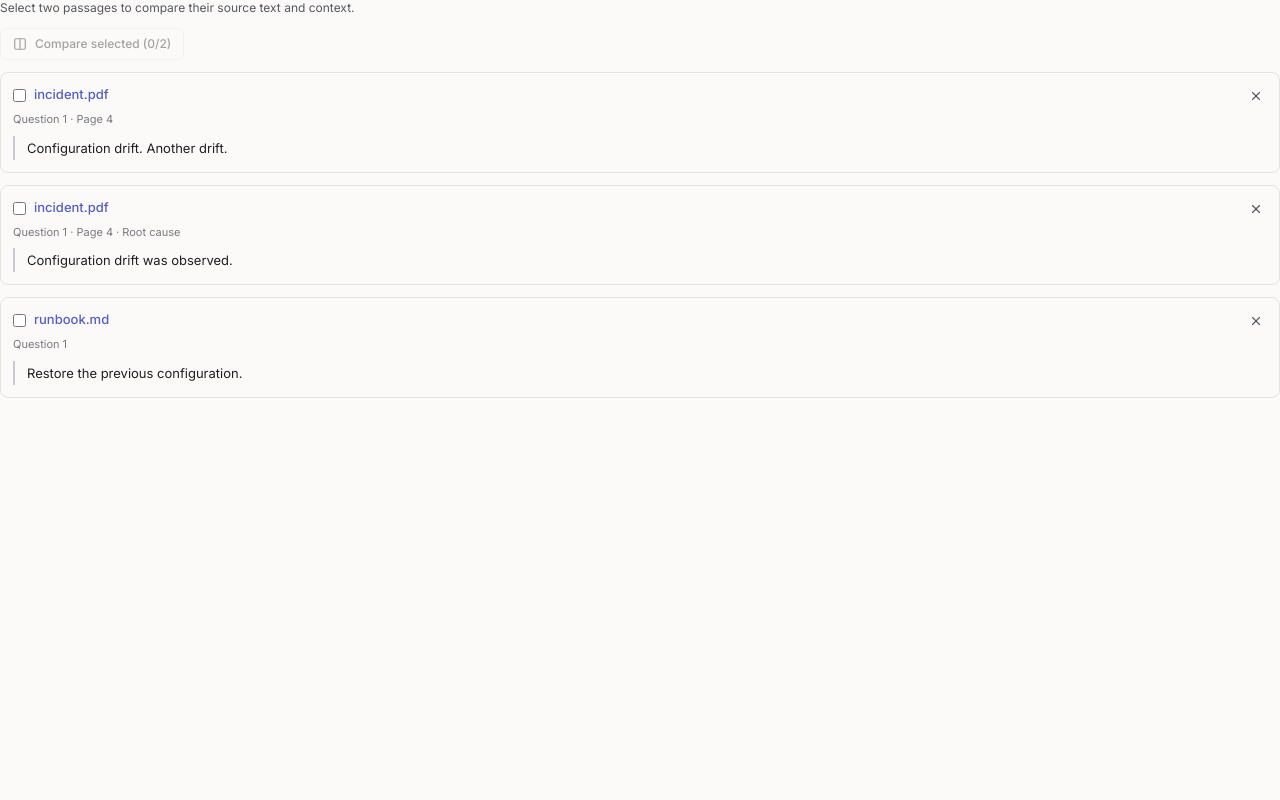
Test case: Research evidence workbench › compares exactly two captured passages with their actual versions and locations
Click the checkbox named "Compare evidence 2": point(20, 208) [13,202,26,214]
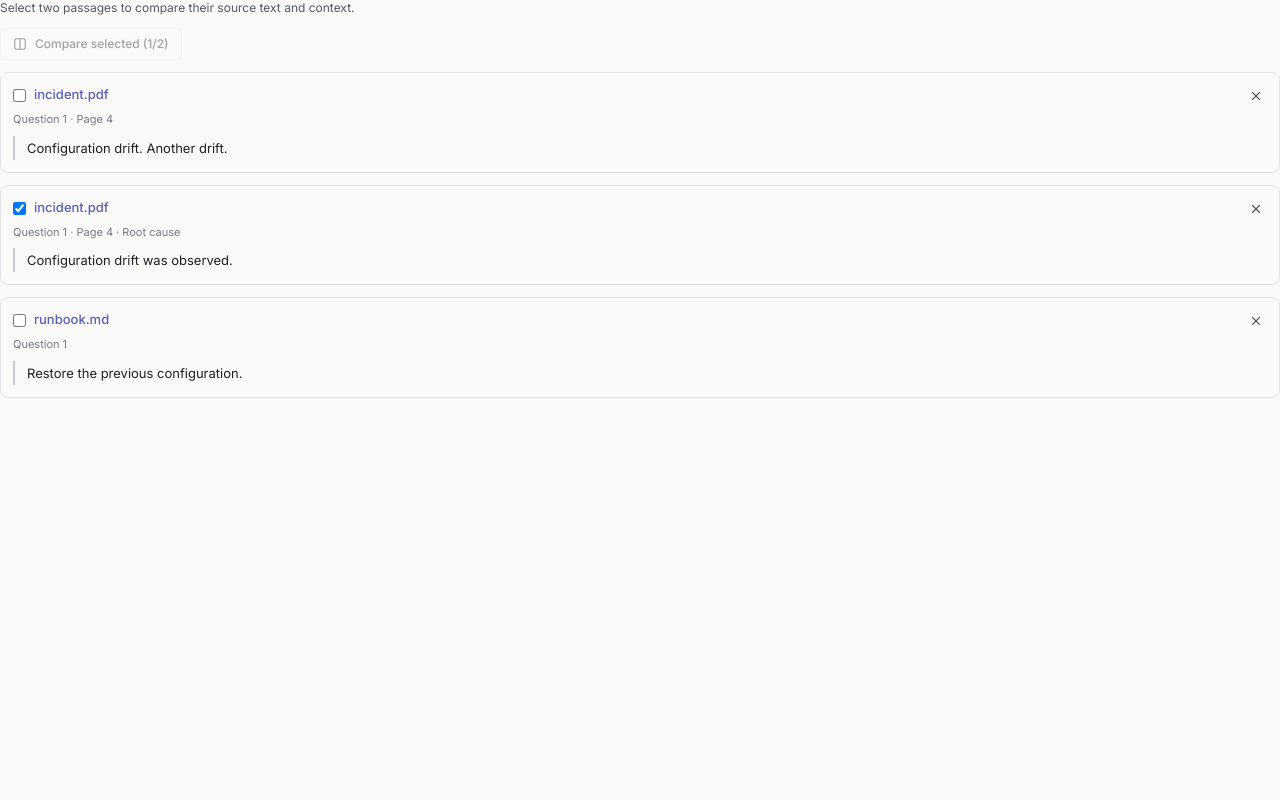
Click the checkbox named "Compare evidence 3": point(20, 320) [13,314,26,327]
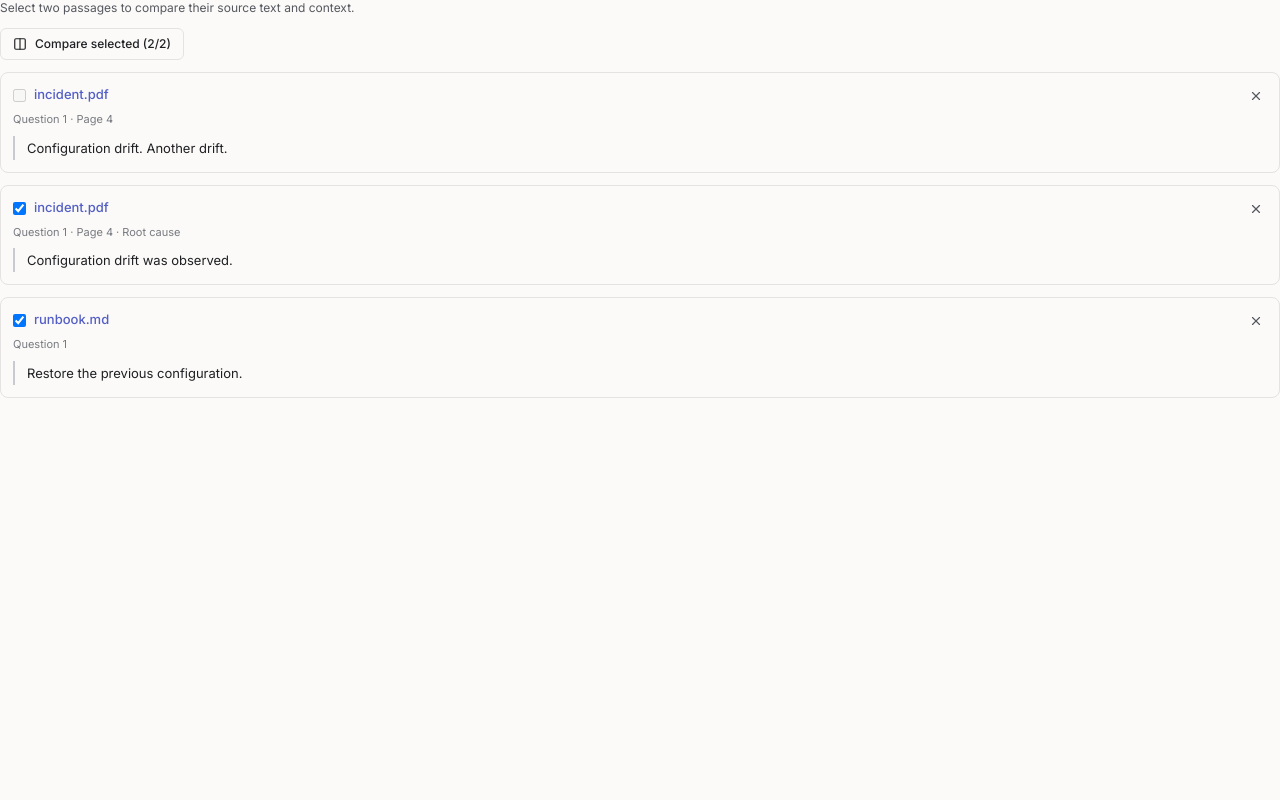
Now the checkbox named "Compare evidence 1" is disabled, box [13,89,26,102]
Click the button "Compare selected (2/2)": point(92, 44) [0,28,184,60]
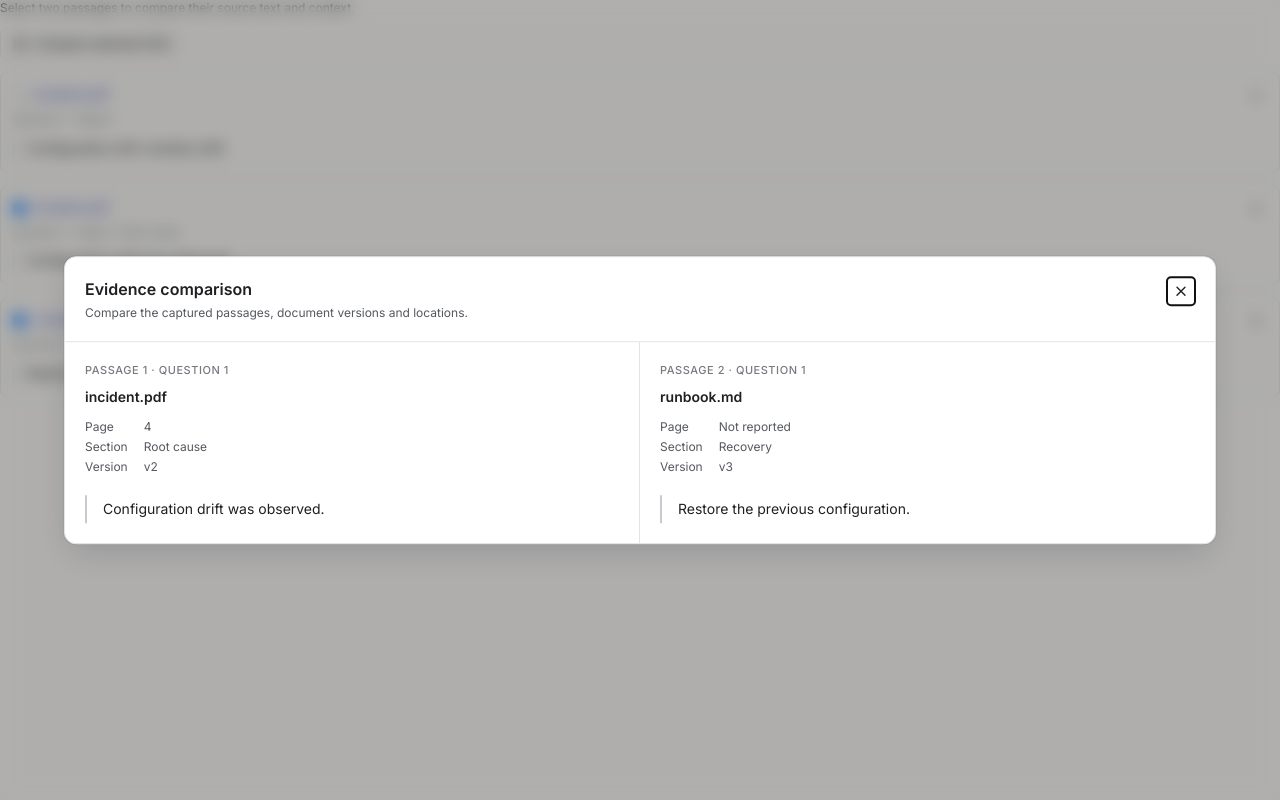
Now the element named "Comparison passage 1" shows "Configuration drift was observed.", box [103,500,325,517]
Now the element named "Comparison passage 1" shows "Root cause", box [144,439,207,454]
Now the element named "Comparison passage 1" shows "v2", box [144,459,158,474]
Click the button named "Close evidence comparison": point(1181, 291) [1167,277,1195,305]
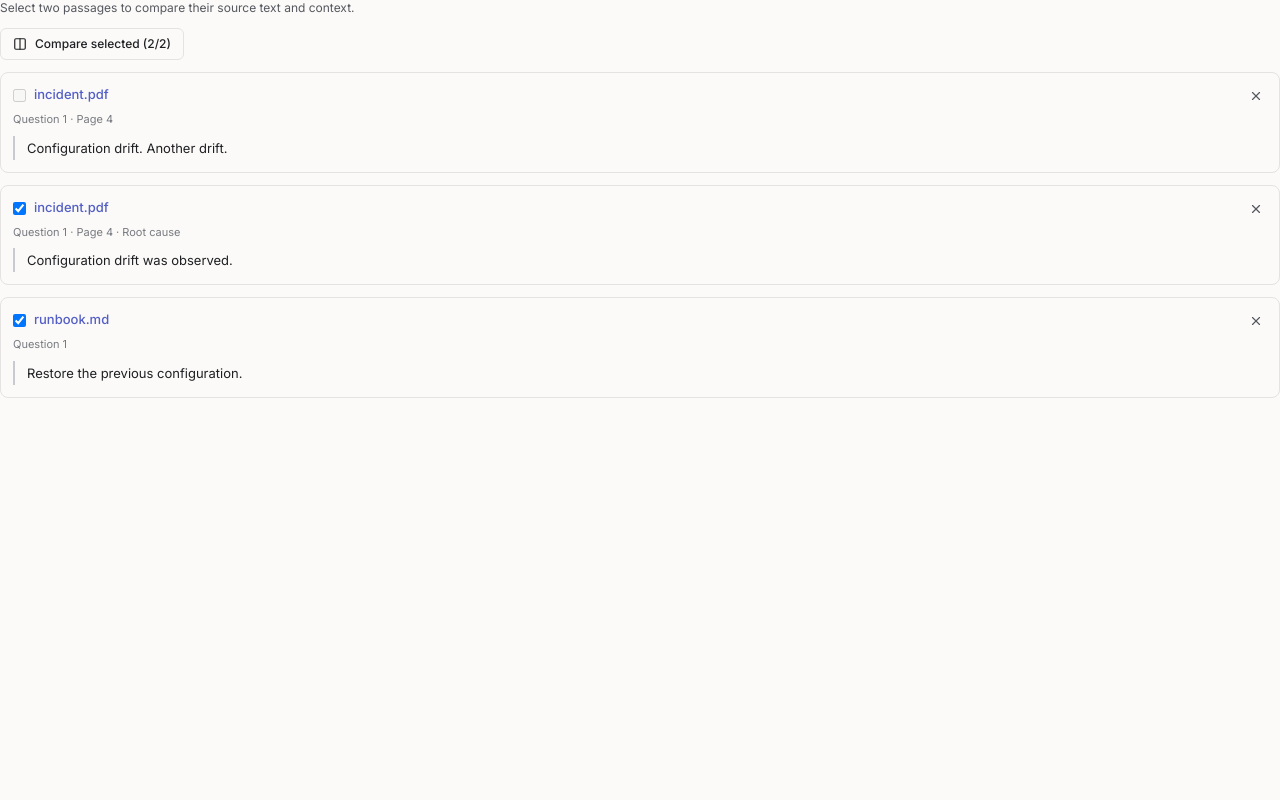
Now the dialog is gone
